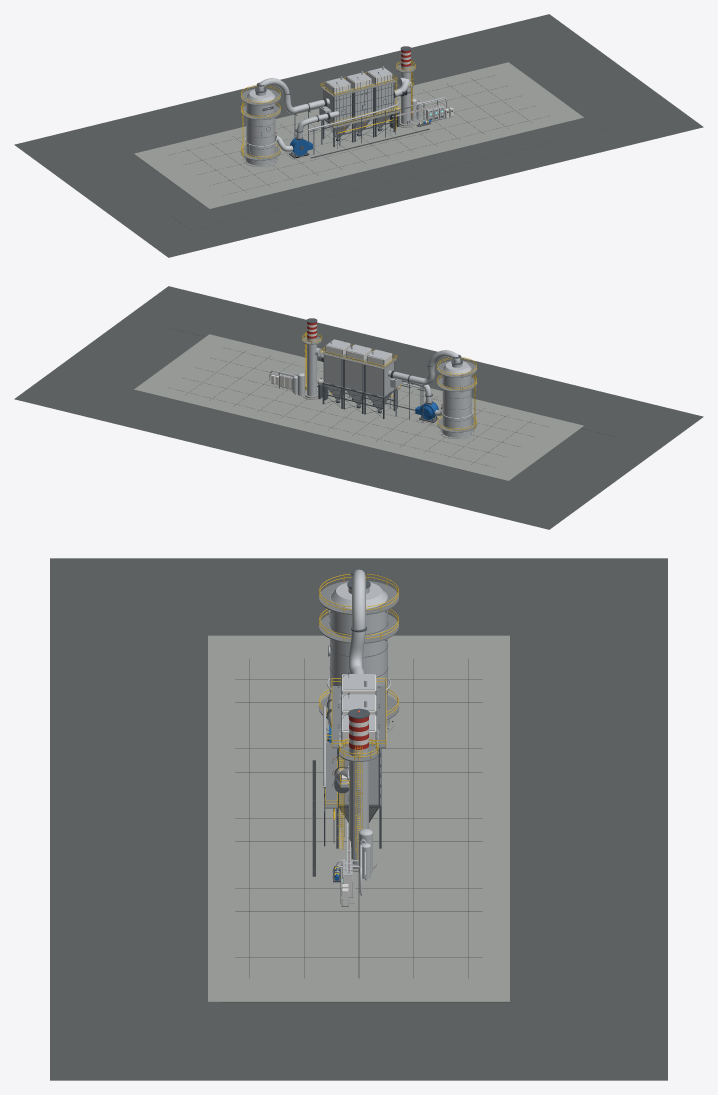
Rendered from WMPSES_RTO_Plant.glb.
3 renders of one model, top to bottom at view 1: azimuth 30°, elevation 25°; view 2: azimuth 150°, elevation 25°; view 3: azimuth 270°, elevation 25°, orthographic. The views are drawn at different scales.
Visible parts, largest first — view 1: WEB_Ground, Concrete_Pad, Front_Road, Tower_Body, TMP_GLTF_Duct_TowerTop_to_RTO, RTO_Chamber_1, RTO_Chamber_2, RTO_Chamber_3, Chimney_Shaft; view 2: WEB_Ground, Concrete_Pad, Front_Road, Tower_Body, RTO_Chamber_1, TMP_GLTF_Duct_TowerTop_to_RTO, Chimney_Shaft, RTO_Chamber_2, RTO_Chamber_3; view 3: WEB_Ground, Concrete_Pad, Front_Road, Tower_Body, Chimney_Shaft, TMP_GLTF_Duct_TowerTop_to_RTO, RTO_TopPlatform, Tower_Platform.002.
Part boxes in pixels (left/top/right/bottom): WEB_Ground: left=14, top=14, right=703, bottom=257; Concrete_Pad: left=134, top=62, right=583, bottom=208; Front_Road: left=170, top=106, right=636, bottom=230; Tower_Body: left=246, top=94, right=275, bottom=157; TMP_GLTF_Duct_TowerTop_to_RTO: left=257, top=78, right=329, bottom=113; RTO_Chamber_1: left=324, top=90, right=351, bottom=124; RTO_Chamber_2: left=354, top=88, right=372, bottom=119; RTO_Chamber_3: left=375, top=83, right=393, bottom=114; Chimney_Shaft: left=401, top=65, right=410, bottom=124; WEB_Ground: left=14, top=286, right=703, bottom=529; Concrete_Pad: left=134, top=334, right=583, bottom=481; Front_Road: left=170, top=313, right=636, bottom=436; Tower_Body: left=442, top=366, right=471, bottom=429; RTO_Chamber_1: left=366, top=362, right=393, bottom=396; TMP_GLTF_Duct_TowerTop_to_RTO: left=388, top=350, right=460, bottom=384; Chimney_Shaft: left=307, top=337, right=316, bottom=396; RTO_Chamber_2: left=345, top=360, right=363, bottom=391; RTO_Chamber_3: left=324, top=355, right=342, bottom=386; WEB_Ground: left=50, top=558, right=667, bottom=1080; Concrete_Pad: left=208, top=635, right=509, bottom=1002; Front_Road: left=139, top=601, right=221, bottom=1036; Tower_Body: left=330, top=591, right=387, bottom=710; Chimney_Shaft: left=349, top=747, right=368, bottom=864; TMP_GLTF_Duct_TowerTop_to_RTO: left=348, top=569, right=365, bottom=673; RTO_TopPlatform: left=332, top=686, right=385, bottom=748; Tower_Platform.002: left=318, top=580, right=399, bottom=614.
Bounding box in the file's own units: 180 × 25.43 × 90.
Materials: 21 (1 with a texture image).
